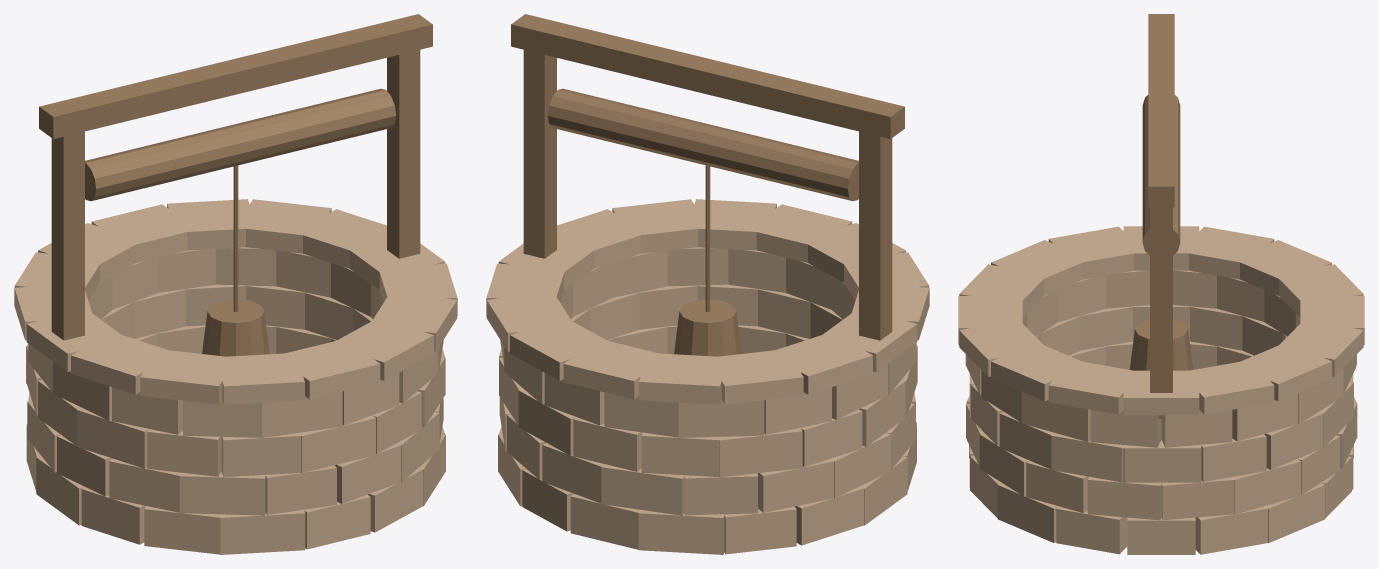
File: SM_DST_Settle_Well.fbx
3 renders of one model, left to right at view 1: azimuth 30°, elevation 25°; view 2: azimuth 150°, elevation 25°; view 3: azimuth 270°, elevation 25°, orthographic. The views are drawn at different scales.
Visible parts, largest first — view 1: SM_DST_Settle_Well; view 2: SM_DST_Settle_Well; view 3: SM_DST_Settle_Well.
Boxes of the visible parts, bbox=[...] form: SM_DST_Settle_Well: bbox=[14, 14, 457, 554]; SM_DST_Settle_Well: bbox=[486, 14, 929, 554]; SM_DST_Settle_Well: bbox=[958, 14, 1364, 554].
Bounding box in the file's own units: 2.15 × 2.17 × 2.14.
